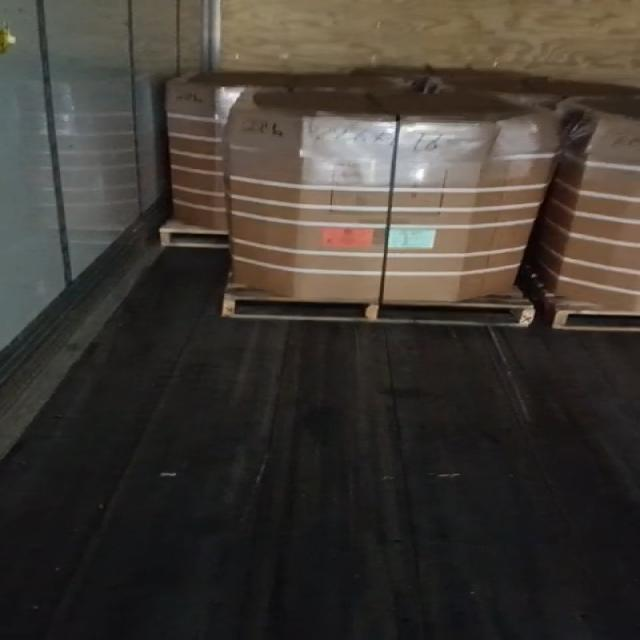pallet: (222, 294, 535, 328), (551, 309, 640, 333), (160, 229, 231, 249)
